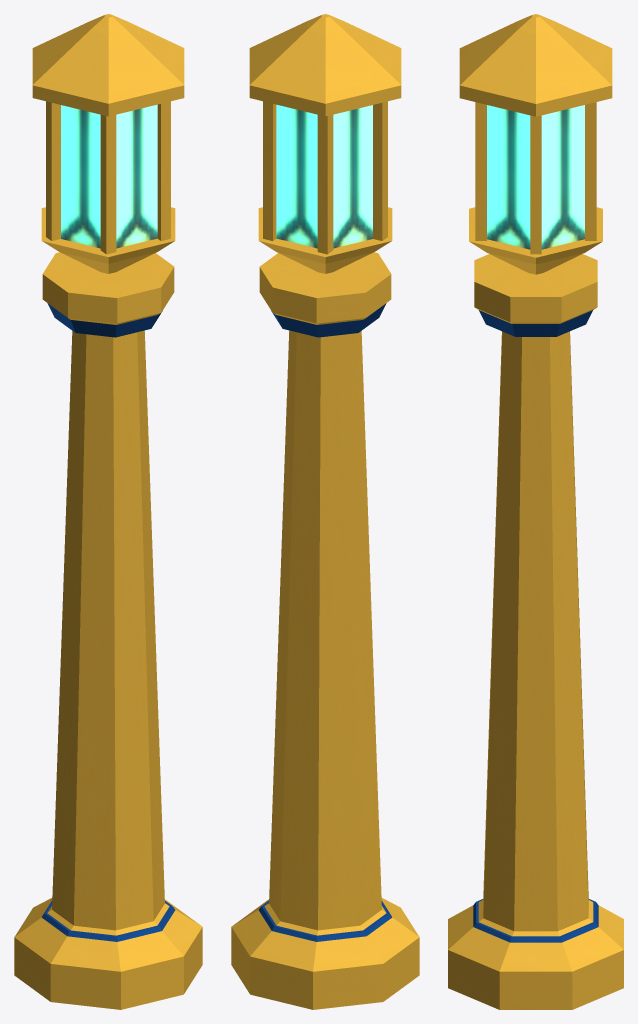
File: rc_light_streetpost.glb
3 renders of one model, left to right at view 1: azimuth 30°, elevation 25°; view 2: azimuth 150°, elevation 25°; view 3: azimuth 270°, elevation 25°, orthographic.
Visible parts, largest first — view 1: SM_RC_Light_StreetPost_0p5x3; view 2: SM_RC_Light_StreetPost_0p5x3; view 3: SM_RC_Light_StreetPost_0p5x3.
Boxes of the visible parts, left/top/right/bottom form: SM_RC_Light_StreetPost_0p5x3: left=14, top=14, right=202, bottom=1009; SM_RC_Light_StreetPost_0p5x3: left=231, top=14, right=419, bottom=1009; SM_RC_Light_StreetPost_0p5x3: left=448, top=14, right=623, bottom=1009.
Bounding box in the file's own units: 0.5 × 3 × 0.5.
Materials: 1 (1 with a texture image).
